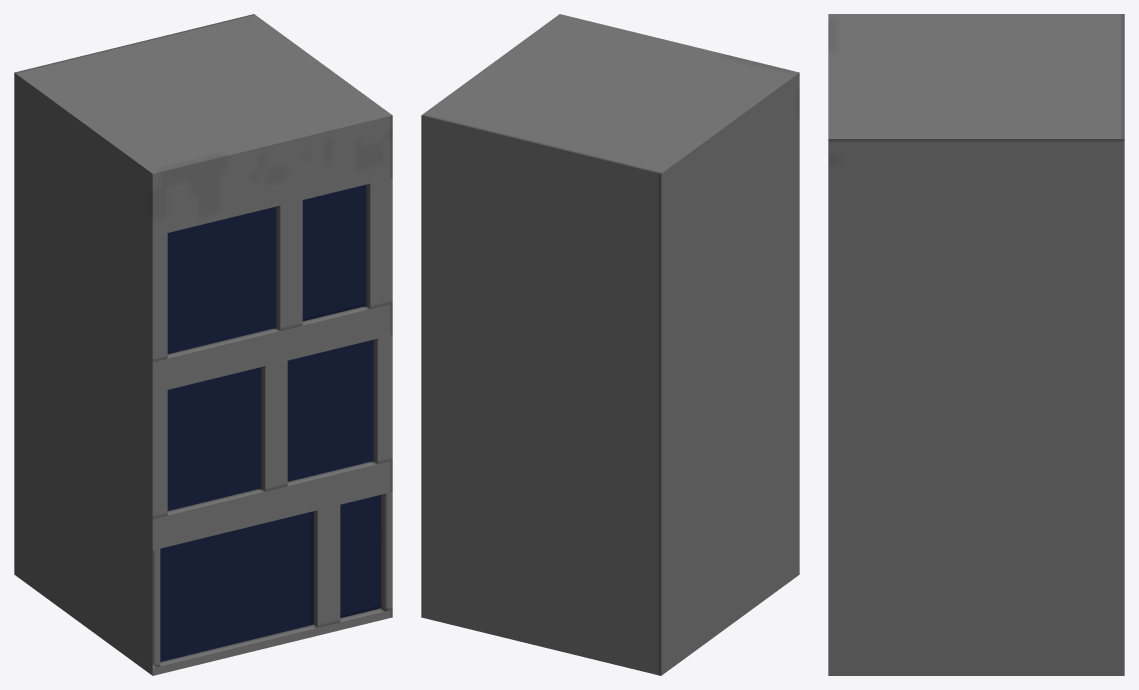
Rendered from budynek_górna_cz_typ2.dae.
3 renders of one model, left to right at view 1: azimuth 30°, elevation 25°; view 2: azimuth 150°, elevation 25°; view 3: azimuth 270°, elevation 25°, orthographic. The views are drawn at different scales.
Parts seen in each view (by area): view 1: Content; view 2: Content; view 3: Content.
Part boxes in pixels (x1=…): Content: x1=14, y1=14, x2=392, y2=675; Content: x1=421, y1=14, x2=799, y2=675; Content: x1=828, y1=14, x2=1124, y2=675.
Size of the model in its own units: 32 by 64 by 32.
1 material, 1 textured.
